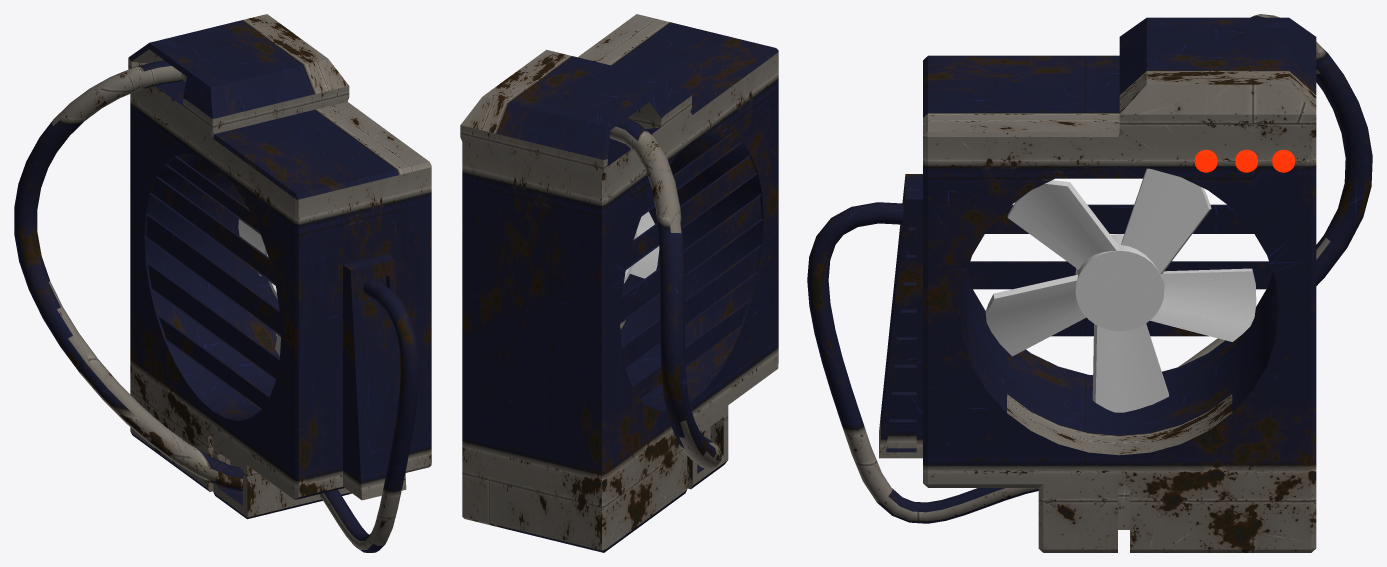
The model's file is Exhaust_Fan_1.glb.
3 renders of one model, left to right at view 1: azimuth 30°, elevation 25°; view 2: azimuth 150°, elevation 25°; view 3: azimuth 270°, elevation 25°, orthographic. The views are drawn at different scales.
Parts seen in each view (by area): view 1: Cube.027, Cylinder.007; view 2: Cube.027, Cylinder.007; view 3: Cube.027, Cylinder.007.
Part boxes in pixels (<box>): Cube.027: <box>14,14,431,552</box>; Cylinder.007: <box>238,219,280,355</box>; Cube.027: <box>460,14,778,552</box>; Cylinder.007: <box>623,211,659,283</box>; Cube.027: <box>807,14,1372,552</box>; Cylinder.007: <box>985,168,1256,412</box>.
Bounding box in the file's own units: 1.09 × 1.79 × 1.94.
Materials: 3 (2 with a texture image).
